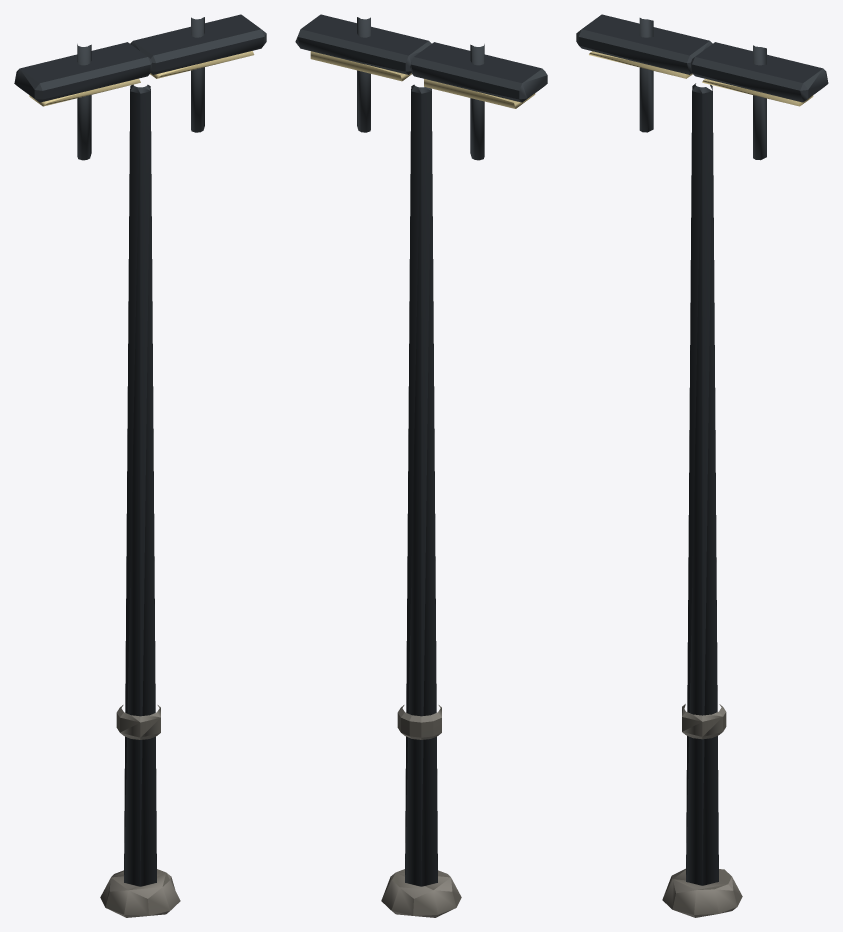
The model's file is street-lamp-twin-v1.lod1.glb.
3 views of the same model, side by side, from view 1: azimuth 30°, elevation 25°; view 2: azimuth 150°, elevation 25°; view 3: azimuth 330°, elevation 25° (orthographic).
Visible parts, largest first — view 1: street-lamp-twin-v1.lod1; view 2: street-lamp-twin-v1.lod1; view 3: street-lamp-twin-v1.lod1.
Boxes of the visible parts, <box> form: street-lamp-twin-v1.lod1: <box>14,14,266,917</box>; street-lamp-twin-v1.lod1: <box>295,14,547,917</box>; street-lamp-twin-v1.lod1: <box>576,14,828,917</box>.
Bounding box in the file's own units: 2.25 × 8.1 × 0.6467.
